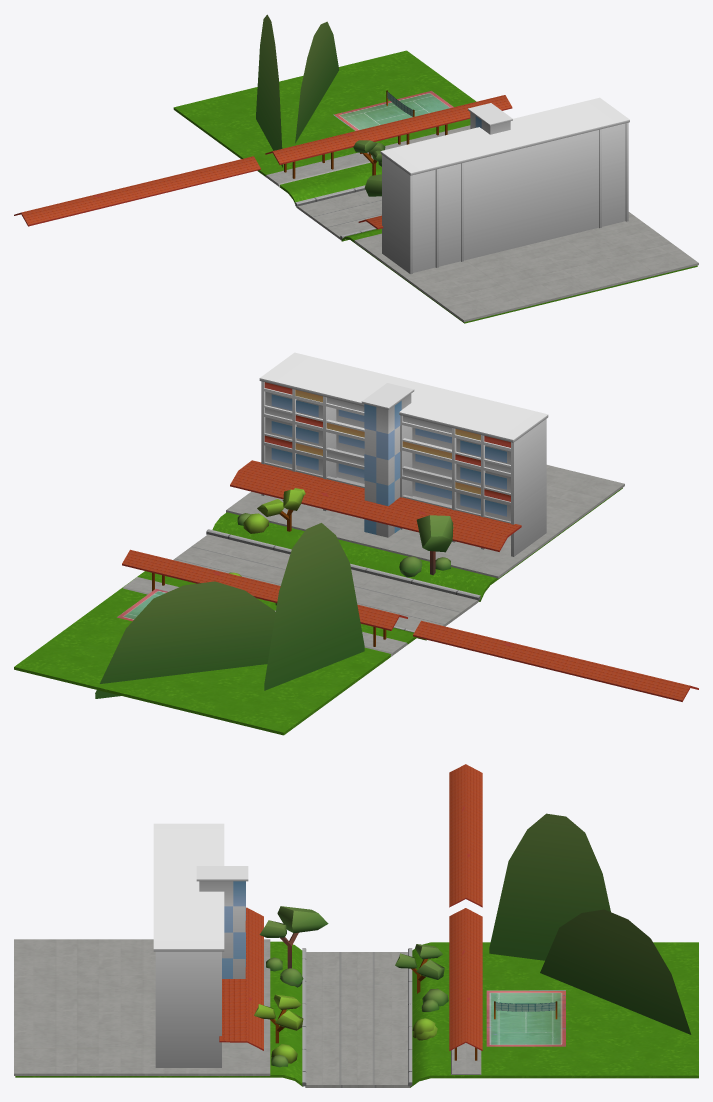
File: Level 3 Chunk 1 V2.fbx
3 views of the same model, one above another, from view 1: azimuth 30°, elevation 25°; view 2: azimuth 150°, elevation 25°; view 3: azimuth 270°, elevation 25° (orthographic). The views are drawn at different scales.
Parts seen in each view (by area): view 1: pCube15806, pCube15755, pCube15768, pCube15837, pCube15754, pasted__pasted__pCube5666, pasted__pCube5744, pCube15764, pCube15752, pCube15770, pCube15773, pCube15760; view 2: pCube15806, pCube15768, pasted__pasted__pCube5666, pasted__pCube5744, pCube15755, pCube15764, pCube15750, pCube15837, pCube15773, pCube15754, pCube15776, polySurface998 (+2 smaller); view 3: pCube15755, pCube15768, pCube15806, pCube15764, pasted__pCube5744, pasted__pasted__pCube5666, pCube15837, pCube15754, pCube15752, pCube15750, pCube15773, polySurface998 (+5 smaller).
Boxes of the visible parts, box(x1,y1,x2,y2) form: pCube15806: box(380, 97, 629, 274); pCube15755: box(354, 212, 698, 322); pCube15768: box(173, 50, 476, 207); pCube15837: box(14, 156, 260, 226); pCube15754: box(265, 95, 512, 164); pasted__pasted__pCube5666: box(295, 21, 339, 143); pasted__pCube5744: box(256, 14, 282, 167); pCube15764: box(297, 190, 381, 240); pCube15752: box(333, 90, 453, 130); pCube15770: box(265, 125, 470, 186); pCube15773: box(341, 228, 697, 323); pCube15760: box(353, 140, 385, 175); pCube15806: box(259, 352, 548, 556); pCube15768: box(14, 571, 426, 735); pasted__pasted__pCube5666: box(95, 581, 275, 698); pasted__pCube5744: box(264, 523, 364, 690); pCube15755: box(226, 465, 624, 578); pCube15764: box(173, 534, 478, 640); pCube15750: box(230, 460, 521, 551); pCube15837: box(413, 620, 698, 701); pCube15773: box(212, 488, 622, 601); pCube15754: box(122, 549, 407, 630); pCube15776: box(206, 529, 480, 600); polySurface998: box(416, 515, 453, 575); pCube15755: box(14, 939, 270, 1075); pCube15768: box(410, 942, 698, 1087); pCube15806: box(153, 823, 248, 1067); pCube15764: box(305, 952, 410, 1087); pasted__pCube5744: box(489, 813, 610, 960); pasted__pasted__pCube5666: box(540, 909, 691, 1034); pCube15837: box(449, 764, 482, 907); pCube15754: box(449, 908, 482, 1050); pCube15752: box(486, 990, 565, 1046); pCube15750: box(219, 907, 263, 1050); pCube15773: box(15, 941, 303, 1086); polySurface998: box(259, 906, 328, 968).
Size of the model in its own units: 25.55 by 6.94 by 26.6.
2 materials, 2 textured.
